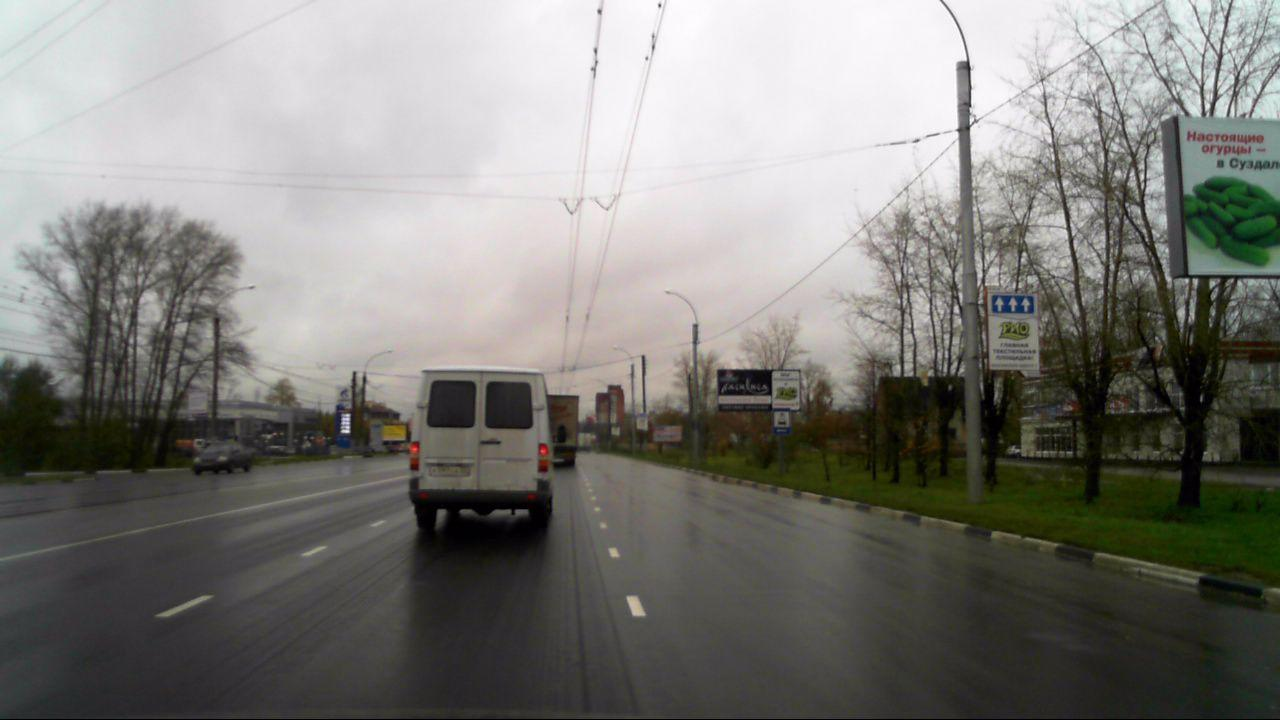7_5: (770, 406, 791, 435)
